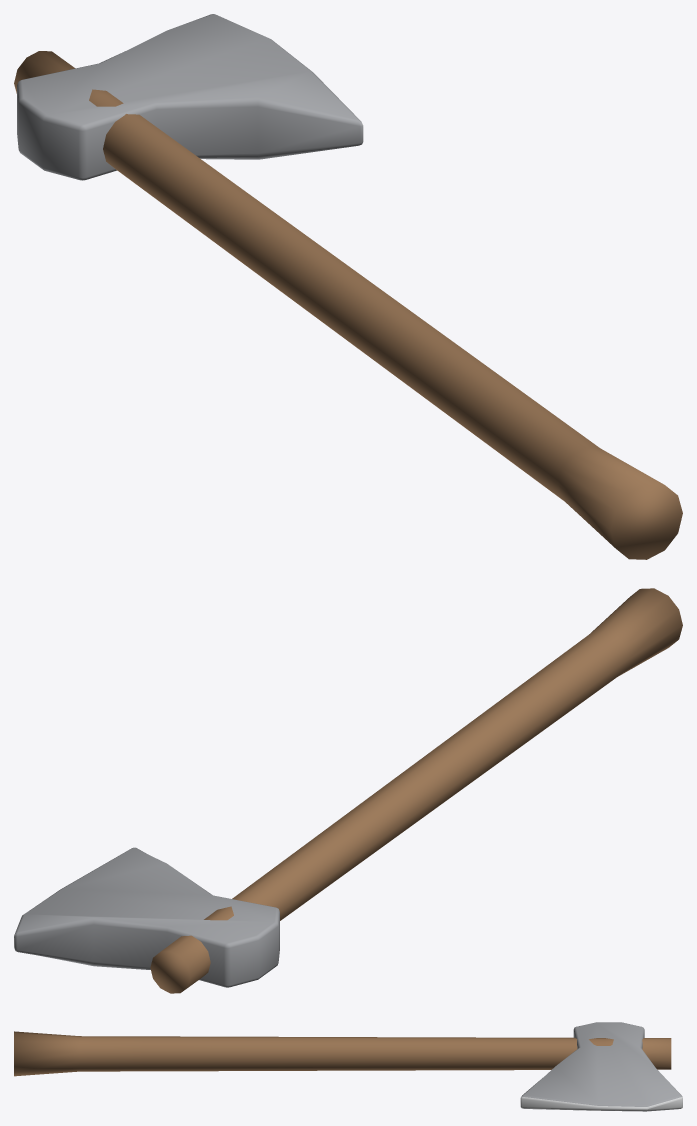
The model's file is Tool_Axe.fbx.
3 renders of one model, top to bottom at view 1: azimuth 30°, elevation 25°; view 2: azimuth 150°, elevation 25°; view 3: azimuth 270°, elevation 25°, orthographic. The views are drawn at different scales.
Visible parts, largest first — view 1: Tool_Axe; view 2: Tool_Axe; view 3: Tool_Axe.
Boxes of the visible parts, <box> form: Tool_Axe: <box>14,14,682,559</box>; Tool_Axe: <box>14,588,682,993</box>; Tool_Axe: <box>14,1022,682,1111</box>.
Size of the model in its own units: 0.176 by 0.0459 by 0.6818.
